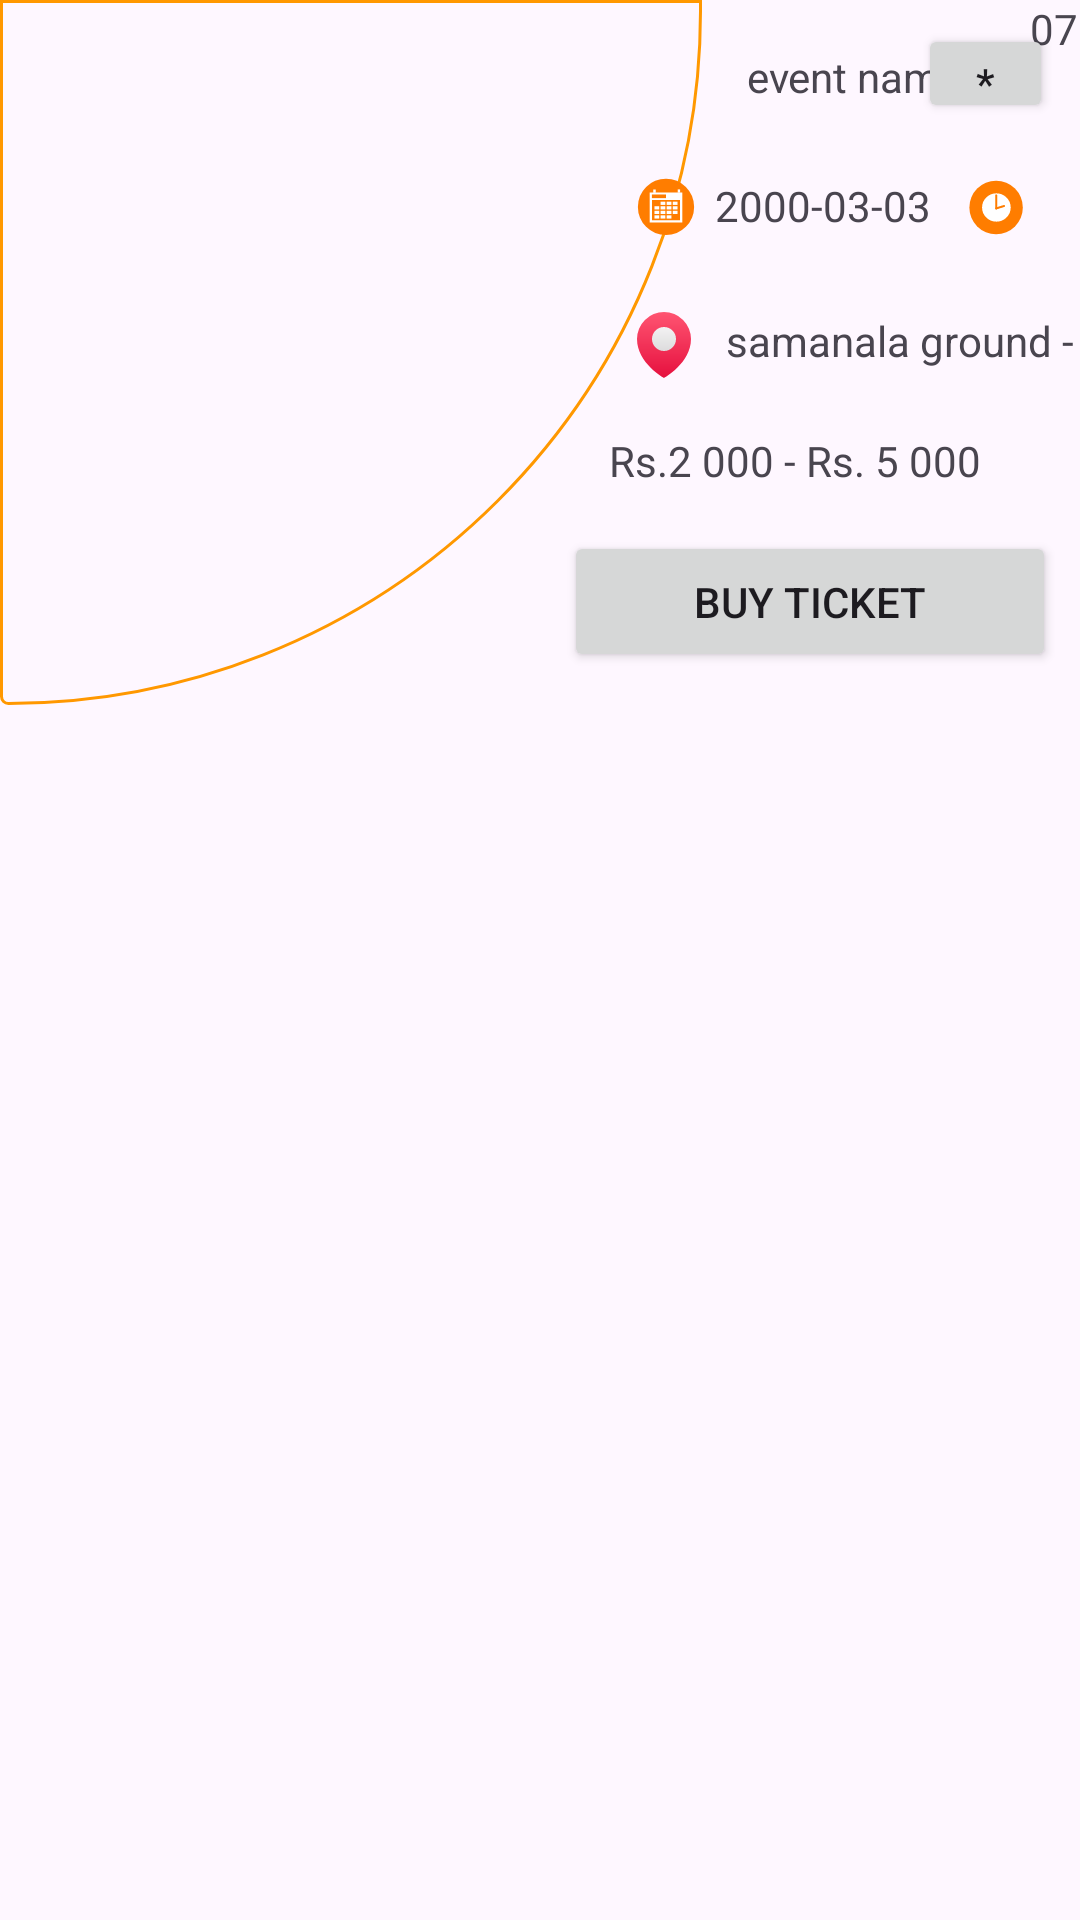

Locate icon controls on the screen. Image size 1080px×1920px, boxes as (x1,y1,x2,y2).
calender: (638,177,694,237)
clock: (969,180,1023,235)
location: (637,312,691,378)
